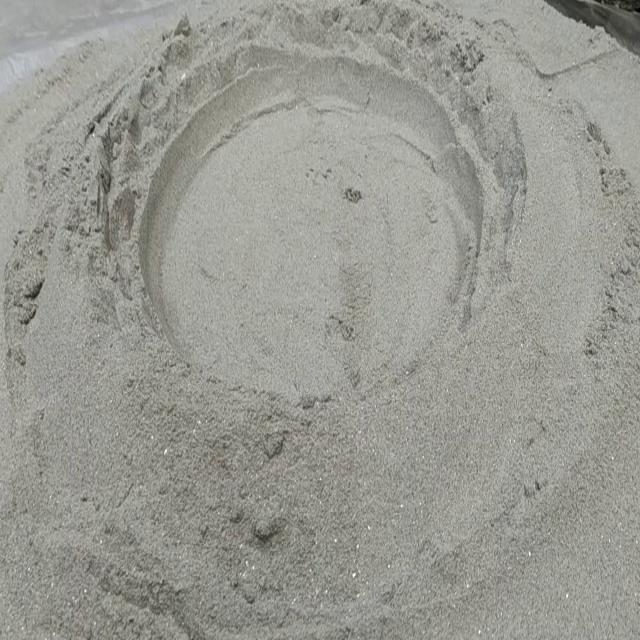C40: (139, 30, 494, 398)
